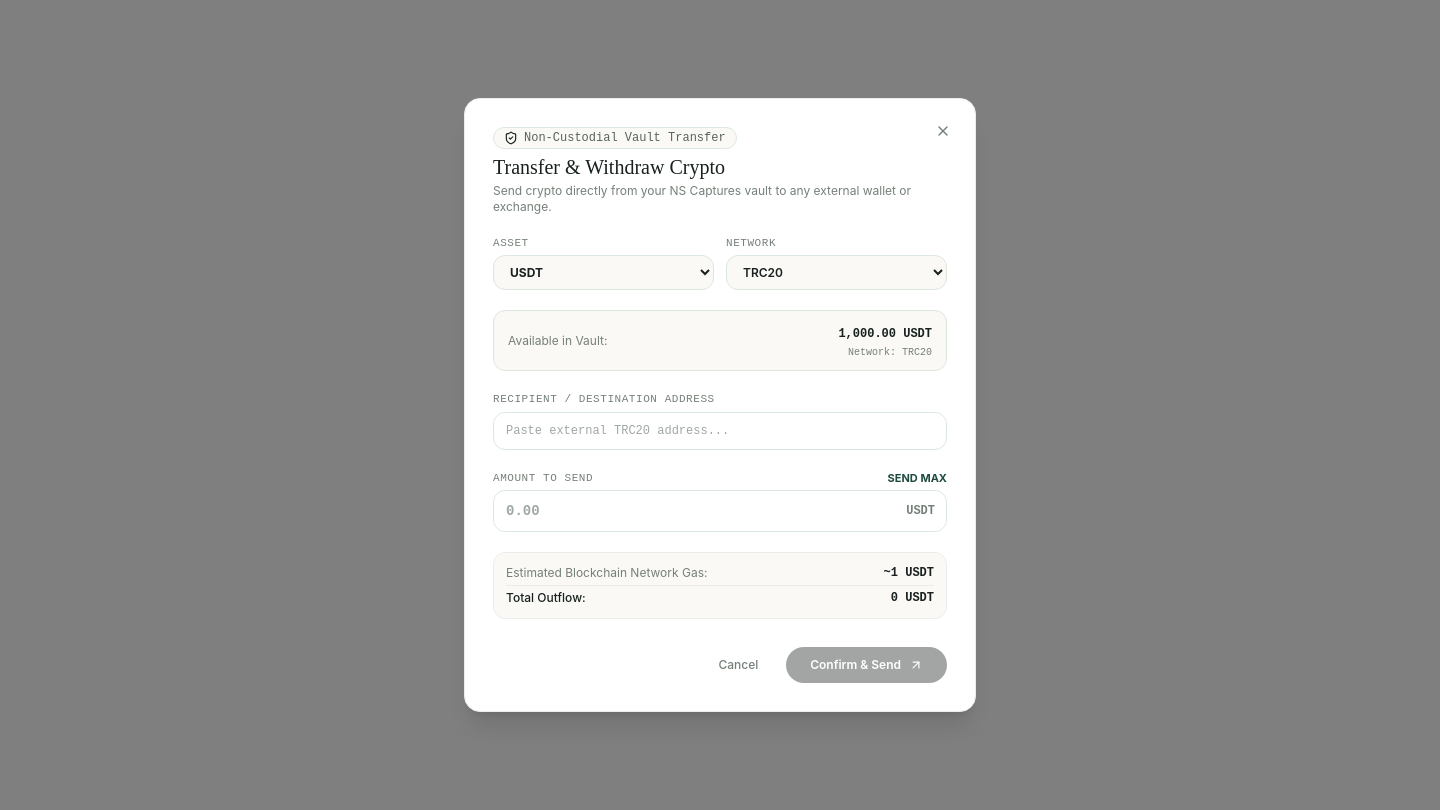
Test: TransferCryptoModal › populates full available balance when SEND MAX is clicked
Click the button "SEND MAX" at x=917, y=478, box [888, 470, 947, 486]
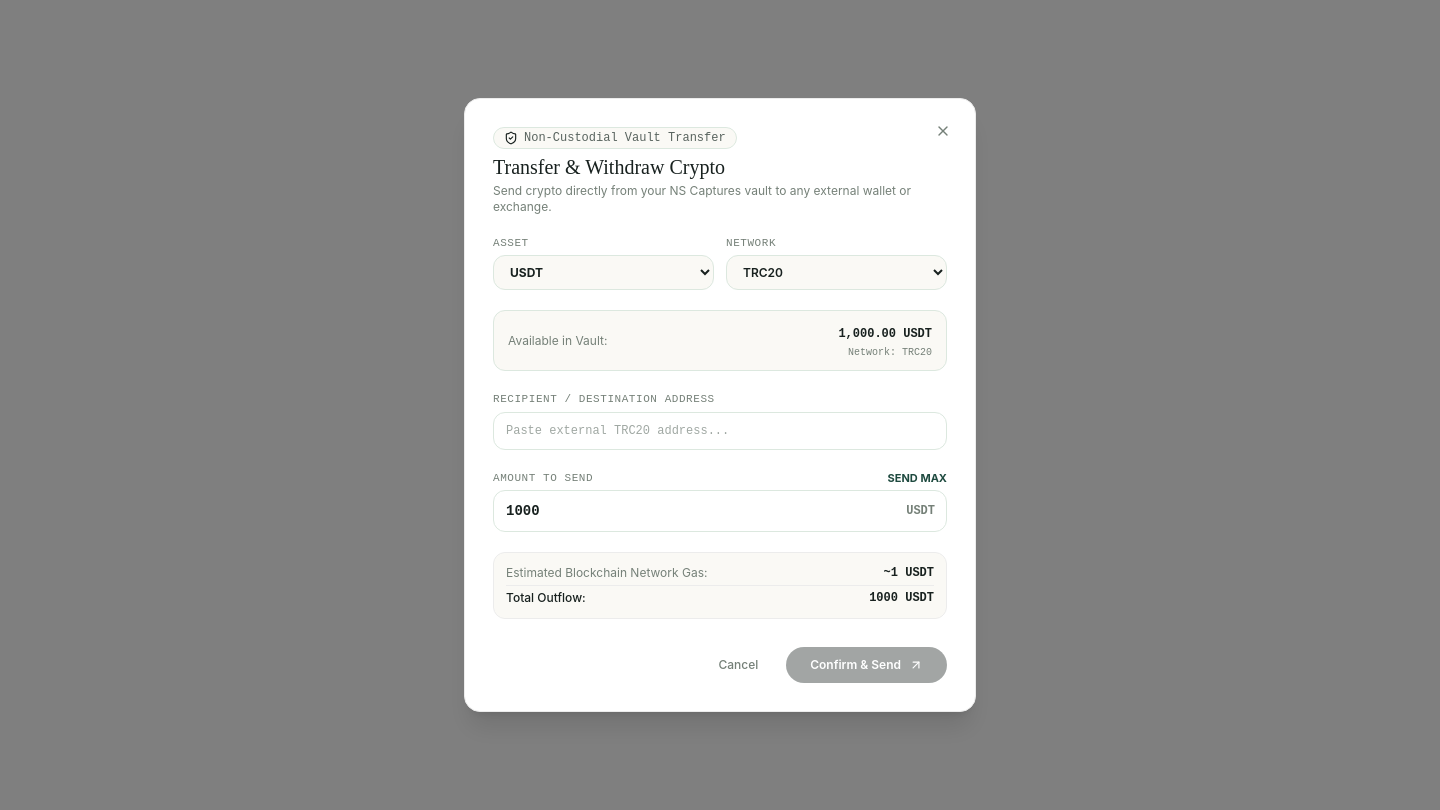
Now the number field with placeholder "0.00" holds "1000", box [493, 490, 947, 532]
